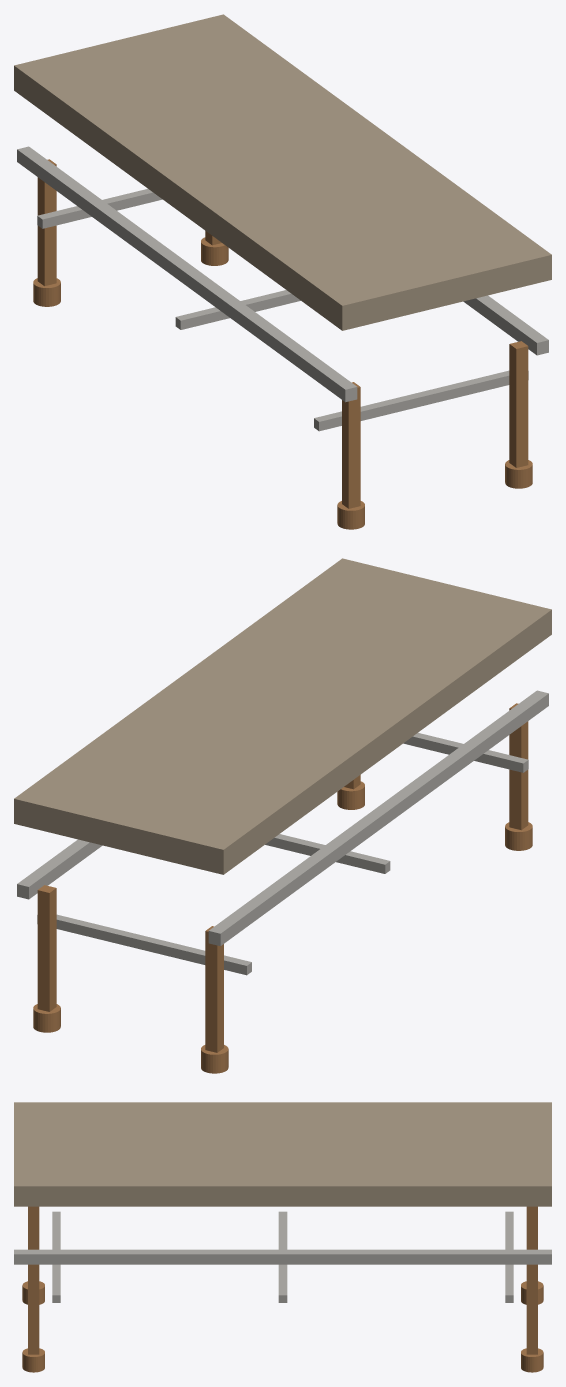
File: prop_procedure_table.fbx
3 views of the same model, one above another, from view 1: azimuth 30°, elevation 25°; view 2: azimuth 150°, elevation 25°; view 3: azimuth 270°, elevation 25° (orthographic). The views are drawn at different scales.
Visible parts, largest first — view 1: PT_Top, PT_Frame-0.32, PT_Cross-0.8, PT_Leg0.28-0.88, PT_Leg-0.28-0.88, PT_Leg-0.280.88, PT_Frame0.32, PT_Cross0, PT_Cross0.8, PT_Cas-0.28-0.88, PT_Cas-0.280.88, PT_Cas0.28-0.88 (+1 smaller); view 2: PT_Top, PT_Frame-0.32, PT_Cross0.8, PT_Leg0.280.88, PT_Leg-0.280.88, PT_Leg-0.28-0.88, PT_Frame0.32, PT_Cross0, PT_Cross-0.8, PT_Cas-0.280.88, PT_Cas-0.28-0.88, PT_Cas0.280.88 (+1 smaller); view 3: PT_Top, PT_Frame0.32, PT_Leg0.28-0.88, PT_Leg0.280.88, PT_Cross0, PT_Cross-0.8, PT_Cross0.8, PT_Leg-0.28-0.88, PT_Leg-0.280.88, PT_Cas0.28-0.88, PT_Cas0.280.88.
Part boxes in pixels (box(x1,y1,x2,y2)): PT_Top: box(14, 14, 551, 330); PT_Frame-0.32: box(17, 146, 357, 402); PT_Cross-0.8: box(314, 370, 528, 431); PT_Leg0.28-0.88: box(509, 341, 528, 467); PT_Leg-0.28-0.88: box(342, 382, 360, 508); PT_Leg-0.280.88: box(37, 159, 56, 286); PT_Frame0.32: box(463, 295, 548, 355); PT_Cross0: box(175, 290, 300, 329); PT_Cross0.8: box(37, 189, 162, 228); PT_Cas-0.28-0.88: box(337, 501, 364, 529); PT_Cas-0.280.88: box(33, 278, 60, 306); PT_Cas0.28-0.88: box(505, 460, 532, 488); PT_Top: box(14, 558, 551, 874); PT_Frame-0.32: box(208, 690, 548, 946); PT_Cross0.8: box(37, 914, 251, 975); PT_Leg0.280.88: box(37, 885, 56, 1011); PT_Leg-0.280.88: box(205, 926, 223, 1052); PT_Leg-0.28-0.88: box(509, 703, 528, 830); PT_Frame0.32: box(17, 839, 102, 899); PT_Cross0: box(265, 834, 390, 873); PT_Cross-0.8: box(403, 733, 528, 772); PT_Cas-0.280.88: box(201, 1045, 228, 1073); PT_Cas-0.28-0.88: box(505, 822, 532, 850); PT_Cas0.280.88: box(33, 1004, 60, 1032); PT_Top: box(14, 1102, 551, 1206); PT_Frame0.32: box(14, 1249, 551, 1264); PT_Leg0.28-0.88: box(28, 1264, 39, 1354); PT_Leg0.280.88: box(526, 1264, 537, 1354); PT_Cross0: box(278, 1211, 287, 1302); PT_Cross-0.8: box(52, 1211, 60, 1302); PT_Cross0.8: box(505, 1211, 513, 1302); PT_Leg-0.28-0.88: box(28, 1206, 39, 1249); PT_Leg-0.280.88: box(526, 1206, 537, 1249); PT_Cas0.28-0.88: box(22, 1348, 44, 1372); PT_Cas0.280.88: box(521, 1348, 543, 1372).
Size of the model in its own units: 70 by 74 by 190.
